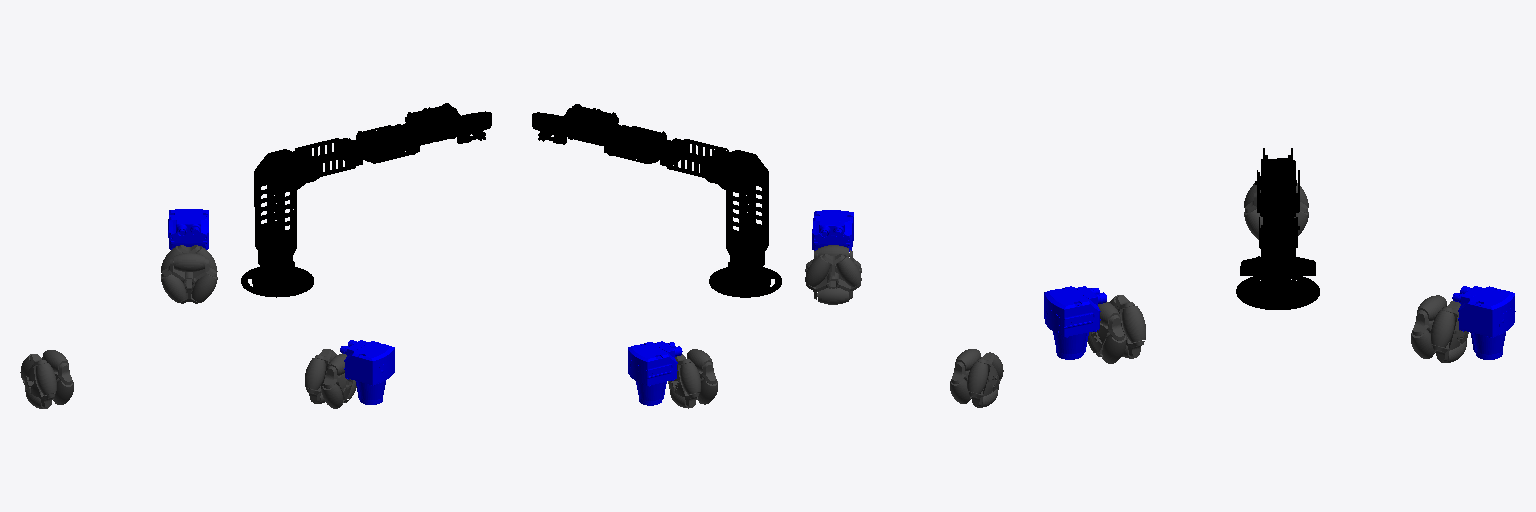
--- Facts derived from the render (not from the file) ---
The picture shows the robot from 3 angles, left to right: view 1: azimuth 30°, elevation 25°; view 2: azimuth 150°, elevation 25°; view 3: azimuth 270°, elevation 25°; orthographic projection.
Robot: talos — 27 links, 26 joints (5 revolute, 3 continuous, 2 prismatic, 16 fixed); root link base_link; default pose: every joint at zero.
Visible links, largest first — view 1: arm_link_1, arm_link_2, wheel_link_fl, base_laser_right_link, wheel_link_b, wheel_link_fr, arm_link_0, base_laser_left_link, arm_link_3, arm_link_4; view 2: arm_link_1, arm_link_2, wheel_link_fr, base_laser_left_link, wheel_link_b, wheel_link_fl, arm_link_0, base_laser_right_link, arm_link_3, arm_link_4; view 3: base_laser_right_link, base_laser_left_link, wheel_link_fl, wheel_link_fr, arm_link_0, arm_link_1, arm_link_5, arm_link_2, wheel_link_b, arm_link_4, arm_link_3.
Boxes of the visible links, x1,y1,x2,y2 form: arm_link_1: [254, 149, 319, 275]; arm_link_2: [295, 125, 405, 177]; wheel_link_fl: [161, 245, 217, 303]; base_laser_right_link: [340, 340, 394, 404]; wheel_link_b: [20, 350, 73, 408]; wheel_link_fr: [305, 349, 356, 408]; arm_link_0: [241, 261, 313, 297]; base_laser_left_link: [168, 209, 208, 249]; arm_link_3: [393, 108, 434, 158]; arm_link_4: [428, 103, 457, 141]; arm_link_1: [704, 150, 768, 275]; arm_link_2: [618, 126, 728, 178]; wheel_link_fr: [805, 245, 861, 304]; base_laser_left_link: [628, 341, 682, 405]; wheel_link_b: [950, 349, 1003, 407]; wheel_link_fl: [668, 349, 717, 408]; arm_link_0: [709, 262, 781, 297]; base_laser_right_link: [812, 210, 853, 251]; arm_link_3: [589, 109, 629, 158]; arm_link_4: [566, 104, 595, 142]; base_laser_right_link: [1044, 286, 1106, 359]; base_laser_left_link: [1452, 286, 1515, 359]; wheel_link_fl: [1411, 295, 1468, 362]; wheel_link_fr: [1087, 295, 1145, 363]; arm_link_0: [1236, 276, 1319, 309]; arm_link_1: [1255, 148, 1296, 280]; arm_link_5: [1240, 254, 1315, 277]; arm_link_2: [1257, 170, 1299, 229]; wheel_link_b: [1244, 183, 1308, 239]; arm_link_4: [1266, 225, 1289, 261]; arm_link_3: [1259, 214, 1297, 249].
Bounding box of the posed robot: 0.8011 × 0.6181 × 0.3311 m (x, y, z).
Meshes: 11 distinct files referenced, 13 mesh visuals loaded (9 binary STL); not drawn: 2 (reference not matched to a file when rendering).

URDF robot description (talos):
<?xml version="1.0" ?>
<!-- =================================================================================== -->
<!-- |    This document was autogenerated by xacro from [local-path]/talos_sim_ws/src/talos_description/urdf/robots/talos.urdf.xacro | -->
<!-- |    EDITING THIS FILE BY HAND IS NOT RECOMMENDED                                 | -->
<!-- =================================================================================== -->
<robot name="talos" xmlns:controller="http://playerstage.sourceforge.net/gazebo/xmlschema/#controller" xmlns:interface="http://playerstage.sourceforge.net/gazebo/xmlschema/#interface" xmlns:sensor="http://playerstage.sourceforge.net/gazebo/xmlschema/#sensor">
    <!-- The following included files set up definitions of parts of the robot body -->
    <!-- misc common stuff? -->
    <!--include filename="$(find talos_description)/urdf/common.xacro" /-->
    <gazebo reference="talos_base">
        <gravity>true</gravity>
        <selfCollide>true</selfCollide>
        <plugin name="gazebo_ros_control">
            <robotNamespace>/</robotNamespace>
        </plugin>
    </gazebo>
    <!-- front left wheel -->
    <gazebo reference="wheel_link_fl">
        <dampingFactor>100000</dampingFactor>
        <kp>100000.0</kp>
        <kd>1000.0</kd>
        <mu1>0</mu1>
        <mu2>0</mu2>
        <fdir>1 0 0</fdir>
        <maxVel>1.0</maxVel>
        <minDepth>0.0</minDepth>
    </gazebo>
    <gazebo reference="caster_link_fl" />
    <!-- front right wheel -->
    <gazebo reference="wheel_link_fr">
        <dampingFactor>100000</dampingFactor>
        <kp>100000.0</kp>
        <kd>1000.0</kd>
        <mu1>0</mu1>
        <mu2>0</mu2>
        <fdir>1 0 0</fdir>
        <maxVel>1.0</maxVel>
        <minDepth>0.0</minDepth>
    </gazebo>
    <gazebo reference="caster_link_fr" />
    <!-- back left wheel -->
    <gazebo reference="wheel_link_b">
        <dampingFactor>100000</dampingFactor>
        <kp>100000.0</kp>
        <kd>1000.0</kd>
        <mu1>0</mu1>
        <mu2>0</mu2>
        <fdir>1 0 0</fdir>
        <maxVel>1.0</maxVel>
        <minDepth>0.0</minDepth>
    </gazebo>
    <gazebo reference="caster_link_b" />
    &gt;
    <!-- generic simulator_gazebo plugins for starting mechanism control, ros time, ros battery -->
    <!--include filename="$(find talos_description)/gazebo/gazebo.urdf.xacro" /-->
    <!-- Now we can start using the macros included above to define the actual talos -->
    <!-- The first use of a macro.  This one was defined in base.urdf.xacro above.
       A macro like this will expand to a set of link and joint definitions, and to additional
       Gazebo-related extensions (sensor plugins, etc).  The macro takes an argument, name, 
       that equals "base", and uses it to generate names for its component links and joints 
       (e.g., base_link).  The included origin block is also an argument to the macro.  By convention, 
       the origin block defines where the component is w.r.t its parent (in this case the parent 
       is the world frame). For more, see http://www.ros.org/wiki/xacro -->
    <link name="base_link">
        <inertial>
            <mass value="15.0" />
            <origin xyz="0 0 0" rpy="0 0 0" />
            <inertia ixx="5.652232699207" ixy="-0.009719934438" ixz="1.293988226423" iyy="5.669473158652" iyz="-0.007379583694" izz="3.683196351726" />
        </inertial>
        <visual>
            <origin rpy="0 0 0" xyz="0 0 0" />
            <geometry>
                <mesh filename="package://talos_description/meshes/talos_base/talos_base.stl" />
            </geometry>
            <material name="">
                <color rgba="0.3 0.3 0.3 1.0" />
            </material>
        </visual>
        <collision>
            <origin rpy="0 0 0" xyz="0 0 0" />
            <geometry>
                <!--<box size="${base_size_x} ${base_size_y} ${base_size_z}" />-->
                <mesh filename="package://talos_description/meshes/talos_base/talos_base.stl" />
            </geometry>
        </collision>
    </link>
    <!-- front left omni-wheel -->
    <joint name="caster_joint_fl" type="fixed">
        <origin rpy="0 0 -2.0944" xyz="0.118 0.217 0.038" />
        <axis xyz="0 0 1" />
        <parent link="base_link" />
        <child link="caster_link_fl" />
    </joint>
    <link name="caster_link_fl">
        <inertial>
            <mass value="0.1" />
            <origin xyz="0 0 0" />
            <inertia ixx="0.012411765597" ixy="-0.000711733678" ixz="0.00050272983" iyy="0.015218160428" iyz="-0.000004273467" izz="0.011763977943" />
        </inertial>
    </link>
    <joint name="wheel_joint_fl" type="continuous">
        <axis xyz="0 1 0" />
        <limit effort="30" velocity="10" />
        <origin rpy="0 0 0" xyz="0.0 0.0 0.0" />
        <parent link="caster_link_fl" />
        <dynamics damping="1.0" friction="1.0" />
        <safety_controller k_velocity="10.0" />
        <child link="wheel_link_fl" />
    </joint>
    <link name="wheel_link_fl">
        <inertial>
            <mass value="0.4" />
            <origin xyz="0 0 0" rpy="0 0 0" />
            <inertia ixx="0.012411765597" ixy="-0.000711733678" ixz="0.00050272983" iyy="0.015218160428" iyz="-0.000004273467" izz="0.011763977943" />
        </inertial>
        <visual>
            <origin rpy="0 0 0" xyz="0 0 0" />
            <geometry>
                <mesh filename="package://talos_description/meshes/talos_base/omniwheel.stl" />
            </geometry>
            <material name="">
                <color rgba="0.3 0.3 0.3 1.0" />
            </material>
        </visual>
        <collision>
            <origin rpy="1.5707963267948966 0 0" xyz="0 0 0" />
            <geometry>
                <cylinder length="0.05" radius="0.05" />
            </geometry>
        </collision>
    </link>
    <!-- front right omni-wheel -->
    <joint name="caster_joint_fr" type="fixed">
        <origin rpy="0 3.141592653589793 -1.0472" xyz="0.118 -0.211 0.038" />
        <axis xyz="0 0 1" />
        <parent link="base_link" />
        <child link="caster_link_fr" />
    </joint>
    <link name="caster_link_fr">
        <inertial>
            <mass value="0.1" />
            <origin xyz="0 0 0" />
            <inertia ixx="0.012411765597" ixy="-0.000711733678" ixz="0.00050272983" iyy="0.015218160428" iyz="-0.000004273467" izz="0.011763977943" />
        </inertial>
    </link>
    <joint name="wheel_joint_fr" type="continuous">
        <axis xyz="0 1 0" />
        <limit effort="30" velocity="10" />
        <dynamics damping="1.0" friction="1.0" />
        <safety_controller k_velocity="10.0" />
        <origin rpy="0 0 0" xyz="0.0 0.0 0.0" />
        <parent link="caster_link_fr" />
        <child link="wheel_link_fr" />
    </joint>
    <link name="wheel_link_fr">
        <inertial>
            <mass value="0.4" />
            <origin xyz="0 0 0" rpy="0 0 0" />
            <inertia ixx="0.012411765597" ixy="-0.000711733678" ixz="0.00050272983" iyy="0.015218160428" iyz="-0.000004273467" izz="0.011763977943" />
        </inertial>
        <visual>
            <origin rpy="0 0 0" xyz="0 0 0" />
            <geometry>
                <mesh filename="package://talos_description/meshes/talos_base/omniwheel.stl" />
            </geometry>
            <material name="">
                <color rgba="0.3 0.3 0.3 1.0" />
            </material>
        </visual>
        <collision>
            <origin rpy="1.5707963267948966 0 0" xyz="0 0 0" />
            <geometry>
                <cylinder length="0.05" radius="0.05" />
            </geometry>
        </collision>
    </link>
    <!-- back omni-wheel -->
    <joint name="caster_joint_b" type="fixed">
        <origin rpy="0 0 0" xyz="-0.253 0 0.038" />
        <axis xyz="0 0 1" />
        <parent link="base_link" />
        <child link="caster_link_b" />
    </joint>
    <link name="caster_link_b">
        <inertial>
            <mass value="0.1" />
            <origin xyz="0 0 0" />
            <inertia ixx="0.012411765597" ixy="-0.000711733678" ixz="0.00050272983" iyy="0.015218160428" iyz="-0.000004273467" izz="0.011763977943" />
        </inertial>
    </link>
    <joint name="wheel_joint_b" type="continuous">
        <axis xyz="0 1 0" />
        <limit effort="10" velocity="10" />
        <limit effort="30" velocity="10" />
        <dynamics damping="1.0" friction="1.0" />
        <safety_controller k_velocity="10.0" />
        <origin rpy="0 0 0" xyz="0.0 0.0 0.0" />
        <parent link="caster_link_b" />
        <child link="wheel_link_b" />
    </joint>
    <link name="wheel_link_b">
        <inertial>
            <mass value="0.4" />
            <origin xyz="0 0 0" rpy="0 0 0" />
            <inertia ixx="0.012411765597" ixy="-0.000711733678" ixz="0.00050272983" iyy="0.015218160428" iyz="-0.000004273467" izz="0.011763977943" />
        </inertial>
        <visual>
            <origin rpy="0 0 0" xyz="0 0 0" />
            <geometry>
                <mesh filename="package://talos_description/meshes/talos_base/omniwheel.stl" />
            </geometry>
            <material name="">
                <color rgba="0.3 0.3 0.3 1.0" />
            </material>
        </visual>
        <collision>
            <origin rpy="1.5707963267948966 0 0" xyz="0 0 0" />
            <geometry>
                <cylinder length="0.05" radius="0.05" />
            </geometry>
        </collision>
    </link>
    <!-- base laser front left-->
    <joint name="base_laser_left_sick_tim561_laser_joint" type="fixed">
        <axis xyz="0 1 0" />
        <origin rpy="0 0 1.0821" xyz="0.153 0.279 0.03" />
        <parent link="base_link" />
        <child link="base_laser_left_link" />
    </joint>
    <link name="base_laser_left_link" type="laser">
        <inertial>
            <mass value="0.16" />
            <origin rpy="0 0 0" xyz="0 0 0.04" />
            <inertia ixx="0.1" ixy="0" ixz="0" iyy="0.1" iyz="0" izz="0.1" />
        </inertial>
        <visual>
            <origin rpy="0 0 0" xyz="0 0 0.04" />
            <geometry>
                <mesh filename="package://talos_description/meshes/sensors/sick_tim561.stl" />
            </geometry>
            <material name="">
                <color rgba="0.0 0.0 1.0 1.0" />
            </material>
        </visual>
        <collision>
            <origin rpy="0 0 0" xyz="0 0 0.04" />
            <geometry>
                <mesh filename="package://talos_description/meshes/sensors/sick_tim561.stl" />
            </geometry>
        </collision>
    </link>
    <gazebo reference="base_laser_left_link">
        <sensor name="base_laser_left" type="ray">
            <visualize>true</visualize>
            <ray>
                <scan>
                    <horizontal>
                        <samples>811</samples>
                        <resolution>1.0</resolution>
                        <min_angle>-2.2</min_angle>
                        <max_angle>2.5</max_angle>
                    </horizontal>
                </scan>
                <range>
                    <min>0.1</min>
                    <max>5.0</max>
                    <resolution>0.01</resolution>
                </range>
            </ray>
            <plugin filename="libgazebo_ros_laser.so" name="gazebo_ros_base_laser_left_controller">
                <gaussianNoise>0.005</gaussianNoise>
                <alwaysOn>true</alwaysOn>
                <updateRate>15</updateRate>
                <topicName>/scan_L</topicName>
                <frameName>base_laser_left_link</frameName>
            </plugin>
        </sensor>
    </gazebo>
    <!-- base laser front right-->
    <joint name="base_laser_right_sick_tim561_laser_joint" type="fixed">
        <axis xyz="0 1 0" />
        <origin rpy="0 0 -1.0821" xyz="0.153 -0.27 0.03" />
        <parent link="base_link" />
        <child link="base_laser_right_link" />
    </joint>
    <link name="base_laser_right_link" type="laser">
        <inertial>
            <mass value="0.16" />
            <origin rpy="0 0 0" xyz="0 0 0.04" />
            <inertia ixx="0.1" ixy="0" ixz="0" iyy="0.1" iyz="0" izz="0.1" />
        </inertial>
        <visual>
            <origin rpy="0 0 0" xyz="0 0 0.04" />
            <geometry>
                <mesh filename="package://talos_description/meshes/sensors/sick_tim561.stl" />
            </geometry>
            <material name="">
                <color rgba="0.0 0.0 1.0 1.0" />
            </material>
        </visual>
        <collision>
            <origin rpy="0 0 0" xyz="0 0 0.04" />
            <geometry>
                <mesh filename="package://talos_description/meshes/sensors/sick_tim561.stl" />
            </geometry>
        </collision>
    </link>
    <gazebo reference="base_laser_right_link">
        <sensor name="base_laser_right" type="ray">
            <visualize>true</visualize>
            <ray>
                <scan>
                    <horizontal>
                        <samples>811</samples>
                        <resolution>1.0</resolution>
                        <min_angle>-2.5</min_angle>
                        <max_angle>2.2</max_angle>
                    </horizontal>
                </scan>
                <range>
                    <min>0.1</min>
                    <max>5.0</max>
                    <resolution>0.01</resolution>
                </range>
            </ray>
            <plugin filename="libgazebo_ros_laser.so" name="gazebo_ros_base_laser_right_controller">
                <gaussianNoise>0.005</gaussianNoise>
                <alwaysOn>true</alwaysOn>
                <updateRate>15</updateRate>
                <topicName>/scan_R</topicName>
                <frameName>base_laser_right_link</frameName>
            </plugin>
        </sensor>
    </gazebo>
    <gazebo>
        <plugin filename="libgazebo_ros_control.so" name="gazebo_ros_control">
            <robotNamespace>/talos</robotNamespace>
        </plugin>
    </gazebo>
    <gazebo>
        <plugin filename="libgazebo_ros_planar_move.so" name="object_controller">
            <commandTopic>/cmd_vel</commandTopic>
            <odometryTopic>/odom</odometryTopic>
            <odometryFrame>odom</odometryFrame>
            <odometryRate>20.0</odometryRate>
            <robotBaseFrame>base_link</robotBaseFrame>
        </plugin>
    </gazebo>
    <!-- front left omni-wheel -->
    <transmission name="wheel_trans_fl">
        <type>transmission_interface/SimpleTransmission</type>
        <joint name="wheel_joint_fl">
            <hardwareInterface>hardware_interface/VelocityJointInterface</hardwareInterface>
        </joint>
        <actuator name="wheel_motor_fl">
            <hardwareInterface>hardware_interface/VelocityJointInterface</hardwareInterface>
            <mechanicalReduction>79.23809523809524</mechanicalReduction>
        </actuator>
    </transmission>
    <!-- front right omni-wheel -->
    <transmission name="wheel_trans_fr">
        <type>transmission_interface/SimpleTransmission</type>
        <joint name="wheel_joint_fr">
            <hardwareInterface>hardware_interface/VelocityJointInterface</hardwareInterface>
        </joint>
        <actuator name="wheel_motor_fr">
            <hardwareInterface>hardware_interface/VelocityJointInterface</hardwareInterface>
            <mechanicalReduction>79.23809523809524</mechanicalReduction>
        </actuator>
    </transmission>
    <!-- back omni-wheel -->
    <transmission name="wheel_trans_b">
        <type>transmission_interface/SimpleTransmission</type>
        <joint name="wheel_joint_b">
            <hardwareInterface>hardware_interface/VelocityJointInterface</hardwareInterface>
        </joint>
        <actuator name="wheel_motor_b">
            <hardwareInterface>hardware_interface/VelocityJointInterface</hardwareInterface>
            <mechanicalReduction>79.23809523809524</mechanicalReduction>
        </actuator>
    </transmission>
    <material name="camera_aluminum">
        <color rgba="0.5 0.5 0.5 1" />
    </material>
    <!-- camera body, with origin at bottom screw mount -->
    <joint name="camera_joint" type="fixed">
        <origin rpy="0 0 0" xyz="0.025 0.0 0.01" />
        <parent link="arm_link_4" />
        <child link="camera_bottom_screw_frame" />
    </joint>
    <link name="camera_bottom_screw_frame" />
    <joint name="camera_link_joint" type="fixed">
        <origin rpy="0 0 0" xyz="0 0.0175 0.0125" />
        <parent link="camera_bottom_screw_frame" />
        <child link="camera_link" />
    </joint>
    <link name="camera_link">
        <visual>
            <origin rpy="1.5707963267948966 0 1.5707963267948966" xyz="0.0149 -0.0175 0" />
            <geometry>
                <!-- <box size="${d435_cam_width} ${d435_cam_height} ${d435_cam_depth}"/> -->
                <mesh filename="package://realsense2_description/meshes/d435.dae" />
                <!--<mesh filename="package://realsense2_description/meshes/d435/d435.dae" />-->
            </geometry>
            <material name="camera_aluminum" />
        </visual>
        <collision>
            <origin rpy="0 0 0" xyz="0 -0.0175 0" />
            <geometry>
                <box size="0.02505 0.09 0.025" />
            </geometry>
        </collision>
        <!--inertial>
         The following are not reliable values, and should not be used for modeling 
        <mass value="0.564" />
        <origin xyz="0 0 0" />
        <inertia ixx="0.003881243" ixy="0.0" ixz="0.0" iyy="0.000498940" iyz="0.0" izz="0.003879257" />
      </inertial>-->
        <inertial>
            <mass value="0.1" />
            <origin xyz="0 0 0" rpy="0 0 0" />
            <inertia ixx="0.03" iyy="0.03" izz="0.03" ixy="0.0" ixz="0.0" iyz="0.0" />
        </inertial>
    </link>
    <!-- camera depth joints and links -->
    <joint name="camera_depth_joint" type="fixed">
        <origin rpy="0 0 0" xyz="0 0 0" />
        <parent link="camera_link" />
        <child link="camera_depth_frame" />
    </joint>
    <link name="camera_depth_frame" />
    <joint name="camera_depth_optical_joint" type="fixed">
        <origin rpy="-1.5707963267948966 0 -1.5707963267948966" xyz="0 0 0" />
        <parent link="camera_depth_frame" />
        <child link="camera_depth_optical_frame" />
    </joint>
    <link name="camera_depth_optical_frame" />
    <!-- camera left IR joints and links -->
    <joint name="camera_left_ir_joint" type="fixed">
        <origin rpy="0 0 0" xyz="0 0.0 0" />
        <parent link="camera_depth_frame" />
        <child link="camera_left_ir_frame" />
    </joint>
    <link name="camera_left_ir_frame" />
    <joint name="camera_left_ir_optical_joint" type="fixed">
        <origin rpy="-1.5707963267948966 0 -1.5707963267948966" xyz="0 0 0" />
        <parent link="camera_left_ir_frame" />
        <child link="camera_left_ir_optical_frame" />
    </joint>
    <link name="camera_left_ir_optical_frame" />
    <!-- camera right IR joints and links -->
    <joint name="camera_right_ir_joint" type="fixed">
        <origin rpy="0 0 0" xyz="0 -0.05 0" />
        <parent link="camera_depth_frame" />
        <child link="camera_right_ir_frame" />
    </joint>
    <link name="camera_right_ir_frame" />
    <joint name="camera_right_ir_optical_joint" type="fixed">
        <origin rpy="-1.5707963267948966 0 -1.5707963267948966" xyz="0 0 0" />
        <parent link="camera_right_ir_frame" />
        <child link="camera_right_ir_optical_frame" />
    </joint>
    <link name="camera_right_ir_optical_frame" />
    <!-- camera color joints and links -->
    <joint name="camera_color_joint" type="fixed">
        <origin rpy="0 0 0" xyz="0 0.015 0" />
        <parent link="camera_depth_frame" />
        <child link="camera_color_frame" />
    </joint>
    <link name="camera_color_frame" />
    <joint name="camera_color_optical_joint" type="fixed">
        <origin rpy="-1.5707963267948966 0 -1.5707963267948966" xyz="0 0 0" />
        <parent link="camera_color_frame" />
        <child link="camera_color_optical_frame" />
    </joint>
    <link name="camera_color_optical_frame" />
    <gazebo reference="camera_link">
        <self_collide>0</self_collide>
        <enable_wind>0</enable_wind>
        <kinematic>0</kinematic>
        <gravity>1</gravity>
        <!--<mu>1</mu>-->
        <mu2>1</mu2>
        <fdir1>0 0 0</fdir1>
        <!--<slip1>0</slip1>
      <slip2>0</slip2>-->
        <kp>1e+13</kp>
        <kd>1</kd>
        <!--<max_vel>0.01</max_vel>
      <min_depth>0</min_depth>-->
        <sensor name="cameracolor" type="camera">
            <camera name="camera">
                <horizontal_fov>1.2112585008840648</horizontal_fov>
                <image>
                    <width>640</width>
                    <height>480</height>
                    <format>RGB_INT8</format>
                </image>
                <clip>
                    <near>0.1</near>
                    <far>100</far>
                </clip>
                <noise>
                    <type>gaussian</type>
                    <mean>0.0</mean>
                    <stddev>0.007</stddev>
                </noise>
            </camera>
            <always_on>1</always_on>
            <update_rate>30</update_rate>
            <visualize>1</visualize>
        </sensor>
        <sensor name="cameraired1" type="camera">
            <camera name="camera">
                <horizontal_fov>1.4870205226991688</horizontal_fov>
                <image>
                    <width>1280</width>
                    <height>720</height>
                    <format>L_INT8</format>
                </image>
                <clip>
                    <near>0.1</near>
                    <far>100</far>
                </clip>
                <noise>
                    <type>gaussian</type>
                    <mean>0.0</mean>
                    <stddev>0.05</stddev>
                </noise>
            </camera>
            <always_on>1</always_on>
            <update_rate>90</update_rate>
            <visualize>0</visualize>
        </sensor>
        <sensor name="cameraired2" type="camera">
            <camera name="camera">
                <horizontal_fov>1.4870205226991688</horizontal_fov>
                <image>
                    <width>1280</width>
                    <height>720</height>
                    <format>L_INT8</format>
                </image>
                <clip>
                    <near>0.1</near>
                    <far>100</far>
                </clip>
                <noise>
                    <type>gaussian</type>
                    <mean>0.0</mean>
                    <stddev>0.05</stddev>
                </noise>
            </camera>
            <always_on>1</always_on>
            <update_rate>90</update_rate>
            <visualize>0</visualize>
        </sensor>
        <sensor name="cameradepth" type="depth">
            <camera name="camera">
                <horizontal_fov>1.4870205226991688</horizontal_fov>
                <image>
                    <width>1280</width>
                    <height>720</height>
                </image>
                <clip>
                    <near>0.1</near>
                    <far>100</far>
                </clip>
                <noise>
                    <type>gaussian</type>
                    <mean>0.0</mean>
                    <stddev>0.100</stddev>
                </noise>
            </camera>
            <always_on>1</always_on>
            <update_rate>90</update_rate>
            <visualize>0</visualize>
        </sensor>
    </gazebo>
    <gazebo>
        <plugin filename="librealsense_gazebo_plugin.so" name="camera">
            <prefix>camera</prefix>
            <depthUpdateRate>30.0</depthUpdateRate>
            <colorUpdateRate>30.0</colorUpdateRate>
            <infraredUpdateRate>30.0</infraredUpdateRate>
            <depthTopicName>depth/image_rect_raw</depthTopicName>
            <depthCameraInfoTopicName>depth/camera_info</depthCameraInfoTopicName>
            <colorTopicName>color/image_raw</colorTopicName>
            <colorCameraInfoTopicName>color/camera_info</colorCameraInfoTopicName>
            <infrared1TopicName>infra1/image_raw</infrared1TopicName>
            <infrared1CameraInfoTopicName>infra1/camera_info</infrared1CameraInfoTopicName>
            <infrared2TopicName>infra2/image_raw</infrared2TopicName>
            <infrared2CameraInfoTopicName>infra2/camera_info</infrared2CameraInfoTopicName>
            <colorOpticalframeName>camera_color_optical_frame</colorOpticalframeName>
            <depthOpticalframeName>camera_depth_optical_frame</depthOpticalframeName>
            <infrared1OpticalframeName>camera_left_ir_optical_frame</infrared1OpticalframeName>
            <infrared2OpticalframeName>camera_right_ir_optical_frame</infrared2OpticalframeName>
            <rangeMinDepth>0.2</rangeMinDepth>
            <rangeMaxDepth>10.0</rangeMaxDepth>
            <pointCloud>True</pointCloud>
            <pointCloudTopicName>depth/color/points</pointCloudTopicName>
            <pointCloudCutoff>0.25</pointCloudCutoff>
            <pointCloudCutoffMax>9.0</pointCloudCutoffMax>
        </plugin>
    </gazebo>
    <!-- joint between base_link and arm_0_link -->
    <joint name="arm_joint_0" type="revolute">
        <origin rpy="0 0 0" xyz="0.148 0.0025 0.147" />
        <parent link="base_link" />
        <child link="arm_link_0" />
        <axis xyz="0 0 1" />
        <dynamics damping="10" friction="10" />
        <limit effort="100" lower="-3.1415" upper="3.1415" velocity="1.5707963267948966" />
    </joint>
    <link name="arm_link_0">
        <inertial>
            <!--<origin xyz="0.023 0 0.006" rpy="0 0 0"/>-->
            <origin rpy="0 0 0" xyz="0 0 0" />
            <mass value="0.01" />
            <inertia ixx="0.01" ixy="0" ixz="0" iyy="0.01" iyz="0" izz="0.01" />
        </inertial>
        <visual>
            <origin rpy="0 0 0" xyz="0 0 0" />
            <geometry>
                <mesh filename="package://talos_description/meshes/talos_arm/shoulder_link.stl" />
            </geometry>
            <material name="">
                <color rgba="0.0 0.0 0.0 1.0" />
            </material>
        </visual>
        <collision>
            <!--<origin xyz="0.023 0 0.006" rpy="0 0 0"/>-->
            <origin rpy="0 0 0" xyz="0 0 0" />
            <geometry>
                <mesh filename="package://talos_description/meshes/talos_arm/shoulder_link.stl" />
                <!--<cylinder length="0.078" radius="0.093"/>-->
            </geometry>
        </collision>
    </link>
    <!-- joint between arm_0_link and arm_1_link -->
    <joint name="arm_joint_1" type="revolute">
        <origin rpy="0 0 0" xyz="0 0 0" />
        <parent link="arm_link_0" />
        <child link="arm_link_1" />
        <axis xyz="0 1 0" />
        <!--<calibration rising="${arm_1_ref}" falling="${arm_1_ref}"/>-->
        <dynamics damping="10" friction="10" />
        <!-- damping - N*s/m, N*s*m/rad -->
        <!-- friction - N, N*m -->
        <limit effort="100" lower="-3.1415" upper="3.1415" velocity="1.5707963267948966" />
        <!--effort - N, N*m-->
        <!--velocity - m/s, rad/s-->
        <!--k_position N/m, N/rad-->
        <!--k_velocity N*s/m, N*s*m/rad-->
        <!--for details: http://www.ros.org/wiki/pr2_controller_manager/safety_limits-->
    </joint>
    <link name="arm_link_1">
        <inertial>
            <mass value="0.01" />
            <origin rpy="0 0 0" xyz="0.0482 0 0.14" />
            <inertia ixx="0.003863" ixy="-0.000979" ixz="0.000000" iyy="0.006196" iyz="0.000000" izz="0.006369" />
        </inertial>
        <visual>
            <origin rpy="0 0 0" xyz="0.0482 0 0.14" />
            <geometry>
                <mesh filename="package://talos_description/meshes/talos_arm/biceps_link.stl" />
            </geometry>
            <material name="">
                <color rgba="0.0 0.0 0.0 1.0" />
            </material>
        </visual>
        <collision>
            <!--<origin xyz="0 0 -0.003" rpy="0 0 0" />-->
            <origin rpy="0 0 0" xyz="0.0482 0 0.14" />
            <geometry>
                <mesh filename="package://talos_description/meshes/talos_arm/biceps_link.stl" />
                <!--<cylinder length="0.102" radius="0.080"/>-->
            </geometry>
        </collision>
    </link>
    <!-- joint between arm_1_link and arm_2_link -->
    <joint name="arm_joint_2" type="revolute">
        <origin rpy="0 1.5707963267948966 0" xyz="0.0482 0 0.142" />
        <parent link="arm_link_1" />
        <child link="arm_link_2" />
        <axis xyz="0 1 0" />
        <!--<calibration rising="${arm_2_ref}" falling="${arm_2_ref}"/>-->
        <dynamics damping="10" friction="10" />
        <limit effort="100" lower="-1.571" upper="1.571" velocity="1.5707963267948966" />
    </joint>
    <link name="arm_link_2">
        <inertial>
            <mass value="0.01" />
            <origin rpy="0 0 0" xyz="0 0 0.142" />
            <inertia ixx="0.000823" ixy="0.000000" ixz="-0.000000" iyy="0.004447" iyz="0.000000" izz="0.004439" />
        </inertial>
        <visual>
            <origin rpy="0 0 0" xyz="0 0 0.142" />
            <geometry>
                <mesh filename="package://talos_description/meshes/talos_arm/forearm_link.stl" />
            </geometry>
            <material name="">
                <color rgba="0.0 0.0 0.0 1.0" />
            </material>
        </visual>
        <collision>
            <!--<origin xyz="0.001 -0.041 0.074" rpy="0 0 0" />-->
            <origin rpy="0 0 0" xyz="0 0 0.142" />
            <geometry>
                <mesh filename="package://talos_description/meshes/talos_arm/forearm_link.stl" />
                <!--<box size="0.074 0.082 0.222"/>-->
            </geometry>
        </collision>
    </link>
    <!-- joint between arm_2_link and arm_3_link -->
    <joint name="arm_joint_3" type="revolute">
        <origin rpy="0 0 0" xyz="0 0 0.142" />
        <parent link="arm_link_2" />
        <child link="arm_link_3" />
        <axis xyz="0 1 0" />
        <dynamics damping="10" friction="10" />
        <limit effort="100" lower="-1.571" upper="1.571" velocity="1.5707963267948966" />
    </joint>
    <link name="arm_link_3">
        <inertial>
            <mass value="0.01" />
            <origin rpy="0 0 0" xyz="0 0 0" />
            <inertia ixx="0.002459" ixy="0.000000" ixz="0.000000" iyy="0.002571" iyz="-0.000000" izz="0.000535" />
        </inertial>
        <visual>
            <origin rpy="0 0 0" xyz="0 0 0" />
            <geometry>
                <mesh filename="package://talos_description/meshes/talos_arm/wrist_1_link.stl" />
            </geometry>
            <material name="">
                <color rgba="0.0 0.0 0.0 1.0" />
            </material>
        </visual>
        <collision>
            <!--<origin xyz="0.000 0.025 0.067" rpy="0 0 0" />-->
            <origin rpy="0 0 0" xyz="0 0 0" />
            <geometry>
                <mesh filename="package://talos_description/meshes/talos_arm/wrist_1_link.stl" />
                <!--<box size="0.064 0.054 0.192"/>-->
            </geometry>
        </collision>
    </link>
    <!-- joint between arm_3_link and arm_4_link -->
    <joint name="arm_joint_4" type="revolute">
        <origin rpy="0 0 0" xyz="0 0 0.0715" />
        <parent link="arm_link_3" />
        <child link="arm_link_4" />
        <axis xyz="0 0 1" />
        <!--<calibration rising="${arm_4_ref}" falling="${arm_4_ref}"/>-->
        <dynamics damping="10" friction="10" />
        <limit effort="100" lower="-1.571" upper="1.571" velocity="1.5707963267948966" />
    </joint>
    <link name="arm_link_4">
        <inertial>
            <mass value="0.01" />
            <origin rpy="0 0 0" xyz="0 0 0.043" />
            <inertia ixx="0.000869" ixy="0.000000" ixz="-0.000000" iyy="0.001173" iyz="-0.000231" izz="0.001091" />
        </inertial>
        <visual>
            <origin rpy="0 0 0" xyz="0 0 0.043" />
            <geometry>
                <mesh filename="package://talos_description/meshes/talos_arm/wrist_2_link.stl" />
            </geometry>
            <material name="">
                <color rgba="0.0 0.0 0.0 1.0" />
            </material>
        </visual>
        <collision>
            <!--<origin xyz="0 0 0.026" rpy="0 0 0" />-->
            <origin rpy="0 0 0" xyz="0 0 0.043" />
            <geometry>
                <mesh filename="package://talos_description/meshes/talos_arm/wrist_2_link.stl" />
                <!--<box size="0.058 0.100 0.118"/>-->
            </geometry>
        </collision>
    </link>
    <!-- joint between arm_4_link and arm_5_link -->
    <joint name="arm_joint_5" type="fixed">
        <origin rpy="0 0 0" xyz="0 0 0.043" />
        <parent link="arm_link_4" />
        <child link="arm_link_5" />
        <axis xyz="0 0 1" />
        <!--<calibration rising="${arm_4_ref}" falling="${arm_4_ref}"/>-->
        <dynamics damping="10" friction="10" />
        <limit effort="100" lower="-2.617" upper="2.617" velocity="1.5707963267948966" />
    </joint>
    <link name="arm_link_5">
        <inertial>
            <mass value="0.01" />
            <origin rpy="0 0 0" xyz="0 0 0.043" />
            <inertia ixx="0.000869" ixy="0.000000" ixz="-0.000000" iyy="0.001173" iyz="-0.000231" izz="0.001091" />
        </inertial>
        <visual>
            <origin rpy="0 0 1.57" xyz="0 0 0" />
            <geometry>
                <mesh filename="package://talos_description/meshes/talos_arm/gripper_rail_link.stl" />
            </geometry>
            <material name="">
                <color rgba="0.0 0.0 0.0 1.0" />
            </material>
        </visual>
        <collision>
            <!--<origin xyz="0 0 0.026" rpy="0 0 0" />-->
            <origin rpy="0 0 1.57" xyz="0 0 0" />
            <geometry>
                <mesh filename="package://talos_description/meshes/talos_arm/gripper_rail_link.stl" />
                <!--<box size="0.058 0.100 0.118"/>-->
            </geometry>
        </collision>
    </link>
    <!-- joint between arm_5_link and arm_6_link -->
    <joint name="arm_joint_6" type="prismatic">
        <origin rpy="0 0 0" xyz="0 0 0" />
        <parent link="arm_link_5" />
        <child link="arm_link_6" />
        <axis xyz="0 -1 0" />
        <!--<calibration rising="${arm_5_ref}" falling="${arm_5_ref}"/>-->
        <dynamics damping="10" friction="10" />
        <limit effort="100" lower="0" upper="0.024" velocity="1.5707963267948966" />
    </joint>
    <link name="arm_link_6">
        <inertial>
            <mass value="0.01" />
            <origin rpy="0 0 1.57" xyz="0 0 0" />
            <inertia ixx="0.000280" ixy="0.000000" ixz="0.000000" iyy="0.000339" iyz="0.000000" izz="0.000119" />
        </inertial>
        <visual>
            <origin rpy="0 0 1.57" xyz="0 0 0" />
            <geometry>
                <mesh filename="package://talos_description/meshes/talos_arm/gripper_hand_fixed_link.stl" />
            </geometry>
            <material name="">
                <color rgba="0.0 0.0 0.0 1.0" />
            </material>
        </visual>
        <collision>
            <origin rpy="0 0 1.57" xyz="0 0 0" />
            <geometry>
                <mesh filename="package://talos_description/meshes/talos_arm/gripper_hand_fixed_link.stl" />
                <!--<box size="0.054 0.096 0.030"/>-->
            </geometry>
        </collision>
    </link>
    <!-- joint between arm_5_link and arm_7_link -->
    <joint name="arm_joint_7" type="prismatic">
        <origin rpy="0 0 0" xyz="0 0 0" />
        <parent link="arm_link_5" />
        <child link="arm_link_7" />
        <axis xyz="0 1 0" />
        <!--<calibration rising="${arm_5_ref}" falling="${arm_5_ref}"/>-->
        <dynamics damping="10" friction="10" />
        <limit effort="100" lower="0" upper="0.024" velocity="1.5707963267948966" />
    </joint>
    <link name="arm_link_7">
        <inertial>
            <mass value="0.01" />
            <origin rpy="0 0 -1.57" xyz="0 0 0" />
            <inertia ixx="0.000280" ixy="0.000000" ixz="0.000000" iyy="0.000339" iyz="0.000000" izz="0.000119" />
        </inertial>
        <visual>
            <origin rpy="0 0 -1.57" xyz="0 0 0" />
            <geometry>
                <mesh filename="package://talos_description/meshes/talos_arm/gripper_hand_fixed_link.stl" />
            </geometry>
            <material name="">
                <color rgba="0.0 0.0 0.0 1.0" />
            </material>
        </visual>
        <collision>
            <origin rpy="0 0 -1.57" xyz="0 0 0" />
            <geometry>
                <mesh filename="package://talos_description/meshes/talos_arm/gripper_hand_fixed_link.stl" />
                <!--<box size="0.054 0.096 0.030"/>-->
            </geometry>
        </collision>
    </link>
    <gazebo reference="arm_link_0">
        <!--material value="youbot/DarkGrey" /-->
        <turnGravityOff>false</turnGravityOff>
        <dampingFactor>100000</dampingFactor>
        <kp>100000.0</kp>
        <kd>1000.0</kd>
        <mu1>1.5</mu1>
        <mu2>1.5</mu2>
        <fdir>1 0 0</fdir>
        <maxVel>1.0</maxVel>
        <minDepth>0.002</minDepth>
    </gazebo>
    <gazebo reference="arm_link_1">
        <!--<material value="youbot/Orange" />-->
        <turnGravityOff>false</turnGravityOff>
        <dampingFactor>100000</dampingFactor>
        <kp>100000.0</kp>
        <kd>1000.0</kd>
        <mu1>1.5</mu1>
        <mu2>1.5</mu2>
        <fdir>1 0 0</fdir>
        <maxVel>1.0</maxVel>
    </gazebo>
    <gazebo reference="arm_link_2">
        <!--<material value="youbot/Orange" />-->
        <turnGravityOff>false</turnGravityOff>
        <dampingFactor>100000</dampingFactor>
        <kp>100000.0</kp>
        <kd>1000.0</kd>
        <mu1>1.5</mu1>
        <mu2>1.5</mu2>
        <fdir>1 0 0</fdir>
        <maxVel>1.0</maxVel>
    </gazebo>
    <gazebo reference="arm_link_3">
        <!--<material value="youbot/Orange" />-->
        <turnGravityOff>false</turnGravityOff>
        <dampingFactor>100000</dampingFactor>
        <kp>100000.0</kp>
        <kd>1000.0</kd>
        <mu1>1.5</mu1>
        <mu2>1.5</mu2>
        <fdir>1 0 0</fdir>
        <maxVel>1.0</maxVel>
    </gazebo>
    <gazebo reference="arm_link_4">
        <!--<material value="youbot/Orange" />-->
        <turnGravityOff>false</turnGravityOff>
        <dampingFactor>100000</dampingFactor>
        <kp>100000.0</kp>
        <kd>1000.0</kd>
        <mu1>1.5</mu1>
        <mu2>1.5</mu2>
        <fdir>1 0 0</fdir>
        <maxVel>1.0</maxVel>
    </gazebo>
    <gazebo reference="arm_link_5">
        <!--<material value="youbot/DarkGrey" />-->
        <turnGravityOff>false</turnGravityOff>
        <dampingFactor>100000</dampingFactor>
        <kp>100000.0</kp>
        <kd>1000.0</kd>
        <mu1>1.5</mu1>
        <mu2>1.5</mu2>
        <fdir>1 0 0</fdir>
        <maxVel>1.0</maxVel>
    </gazebo>
    <gazebo reference="arm_link_6">
        <!--<material value="youbot/DarkGrey" />-->
        <turnGravityOff>false</turnGravityOff>
        <dampingFactor>100000</dampingFactor>
        <kp>100000.0</kp>
        <kd>1000.0</kd>
        <mu1>1.5</mu1>
        <mu2>1.5</mu2>
        <fdir>1 0 0</fdir>
        <maxVel>1.0</maxVel>
    </gazebo>
    <gazebo reference="arm_link_7">
        <!--<material value="youbot/DarkGrey" />-->
        <turnGravityOff>false</turnGravityOff>
        <dampingFactor>100000</dampingFactor>
        <kp>100000.0</kp>
        <kd>1000.0</kd>
        <mu1>1.5</mu1>
        <mu2>1.5</mu2>
        <fdir>1 0 0</fdir>
        <maxVel>1.0</maxVel>
    </gazebo>
    <transmission name="arm_trans_0">
        <type>transmission_interface/SimpleTransmission</type>
        <joint name="arm_joint_0">
            <hardwareInterface>hardware_interface/EffortJointInterface</hardwareInterface>
        </joint>
        <actuator name="arm_joint_0_actr">
            <hardwareInterface>hardware_interface/EffortJointInterface</hardwareInterface>
            <mechanicalReduction>1</mechanicalReduction>
        </actuator>
    </transmission>
    <transmission name="arm_trans_1">
        <type>transmission_interface/SimpleTransmission</type>
        <joint name="arm_joint_1">
            <hardwareInterface>hardware_interface/EffortJointInterface</hardwareInterface>
        </joint>
        <actuator name="arm_joint_1_actr">
            <hardwareInterface>hardware_interface/EffortJointInterface</hardwareInterface>
            <mechanicalReduction>1</mechanicalReduction>
        </actuator>
    </transmission>
    <transmission name="arm_trans_2">
        <type>transmission_interface/SimpleTransmission</type>
        <joint name="arm_joint_2">
            <hardwareInterface>hardware_interface/EffortJointInterface</hardwareInterface>
        </joint>
        <actuator name="arm_joint_2_actr">
            <hardwareInterface>hardware_interface/EffortJointInterface</hardwareInterface>
            <mechanicalReduction>1</mechanicalReduction>
        </actuator>
    </transmission>
    <transmission name="arm_trans_3">
        <type>transmission_interface/SimpleTransmission</type>
        <joint name="arm_joint_3">
            <hardwareInterface>hardware_interface/EffortJointInterface</hardwareInterface>
        </joint>
        <actuator name="arm_joint_3_actr">
            <hardwareInterface>hardware_interface/EffortJointInterface</hardwareInterface>
            <mechanicalReduction>1</mechanicalReduction>
        </actuator>
    </transmission>
    <transmission name="arm_trans_4">
        <type>transmission_interface/SimpleTransmission</type>
        <joint name="arm_joint_4">
            <hardwareInterface>hardware_interface/EffortJointInterface</hardwareInterface>
        </joint>
        <actuator name="arm_joint_4_actr">
            <hardwareInterface>hardware_interface/EffortJointInterface</hardwareInterface>
            <mechanicalReduction>1</mechanicalReduction>
        </actuator>
    </transmission>
    <transmission name="arm_trans_6">
        <type>transmission_interface/SimpleTransmission</type>
        <joint name="arm_joint_6">
            <hardwareInterface>hardware_interface/EffortJointInterface</hardwareInterface>
        </joint>
        <actuator name="arm_joint_6_actr">
            <hardwareInterface>hardware_interface/EffortJointInterface</hardwareInterface>
            <mechanicalReduction>1</mechanicalReduction>
        </actuator>
    </transmission>
    <transmission name="arm_trans_7">
        <type>transmission_interface/SimpleTransmission</type>
        <joint name="arm_joint_7">
            <hardwareInterface>hardware_interface/EffortJointInterface</hardwareInterface>
        </joint>
        <actuator name="arm_joint_7_actr">
            <hardwareInterface>hardware_interface/EffortJointInterface</hardwareInterface>
            <mechanicalReduction>1</mechanicalReduction>
        </actuator>
    </transmission>
</robot>
